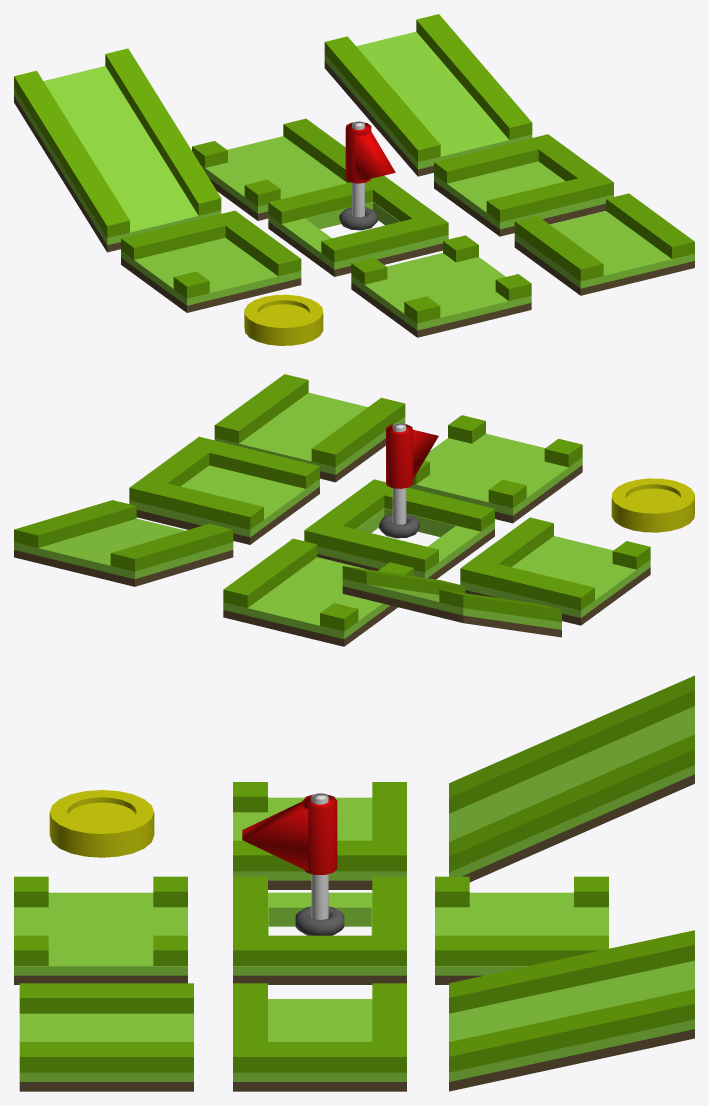
The model's file is Assets.fbx.
3 renders of one model, top to bottom at view 1: azimuth 30°, elevation 25°; view 2: azimuth 150°, elevation 25°; view 3: azimuth 270°, elevation 25°, orthographic. The views are drawn at different scales.
Visible parts, largest first — view 1: HighSlop, LowSlop, Corner, Closed, Bridge, Cross, Hole, Tri, Coin, Flag; view 2: Closed, LowSlop, Corner, Bridge, Hole, Tri, Cross, HighSlop, Coin, Flag; view 3: LowSlop, HighSlop, Bridge, Closed, Cross, Hole, Tri, Corner, Flag, Coin.
Boxes of the visible parts, x1=… form: HighSlop: x1=14, y1=48, x2=221, y2=252; LowSlop: x1=324, y1=14, x2=532, y2=176; Corner: x1=121, y1=210, x2=301, y2=312; Closed: x1=434, y1=134, x2=613, y2=236; Bridge: x1=514, y1=193, x2=694, y2=295; Cross: x1=351, y1=235, x2=531, y2=337; Hole: x1=268, y1=175, x2=448, y2=276; Tri: x1=192, y1=118, x2=349, y2=220; Coin: x1=244, y1=294, x2=323, y2=345; Flag: x1=339, y1=121, x2=395, y2=230; Closed: x1=129, y1=436, x2=319, y2=544; LowSlop: x1=14, y1=500, x2=233, y2=586; Corner: x1=460, y1=517, x2=650, y2=625; Bridge: x1=214, y1=374, x2=405, y2=482; Hole: x1=304, y1=479, x2=494, y2=579; Tri: x1=223, y1=538, x2=413, y2=646; Cross: x1=409, y1=415, x2=582, y2=523; HighSlop: x1=342, y1=566, x2=561, y2=637; Coin: x1=611, y1=478, x2=694, y2=532; Flag: x1=379, y1=423, x2=438, y2=538; LowSlop: x1=449, y1=930, x2=694, y2=1091; HighSlop: x1=449, y1=675, x2=694, y2=882; Bridge: x1=19, y1=983, x2=193, y2=1091; Closed: x1=233, y1=983, x2=406, y2=1091; Cross: x1=14, y1=876, x2=187, y2=984; Hole: x1=233, y1=876, x2=406, y2=984; Tri: x1=435, y1=876, x2=608, y2=984; Corner: x1=233, y1=782, x2=406, y2=889; Flag: x1=242, y1=793, x2=344, y2=935; Coin: x1=49, y1=790, x2=154, y2=857.
Size of the model in its own units: 18.69 by 4.8 by 19.56.
